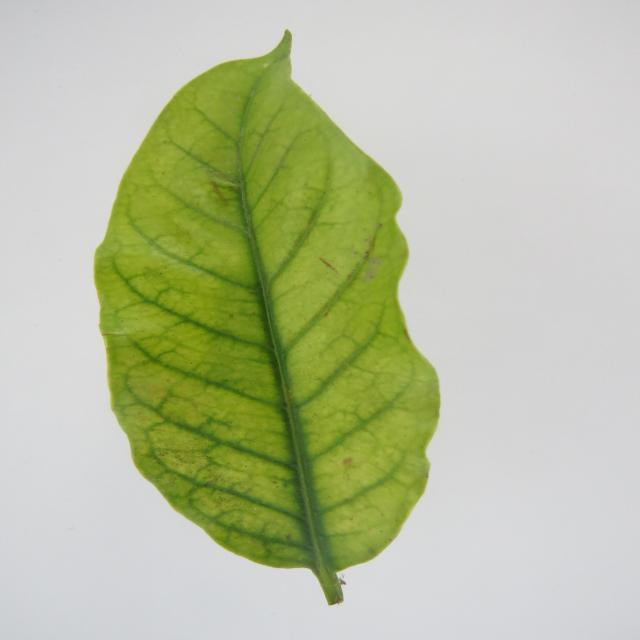DeficienciaNutricional-Manganeso: (95, 32, 438, 604)
